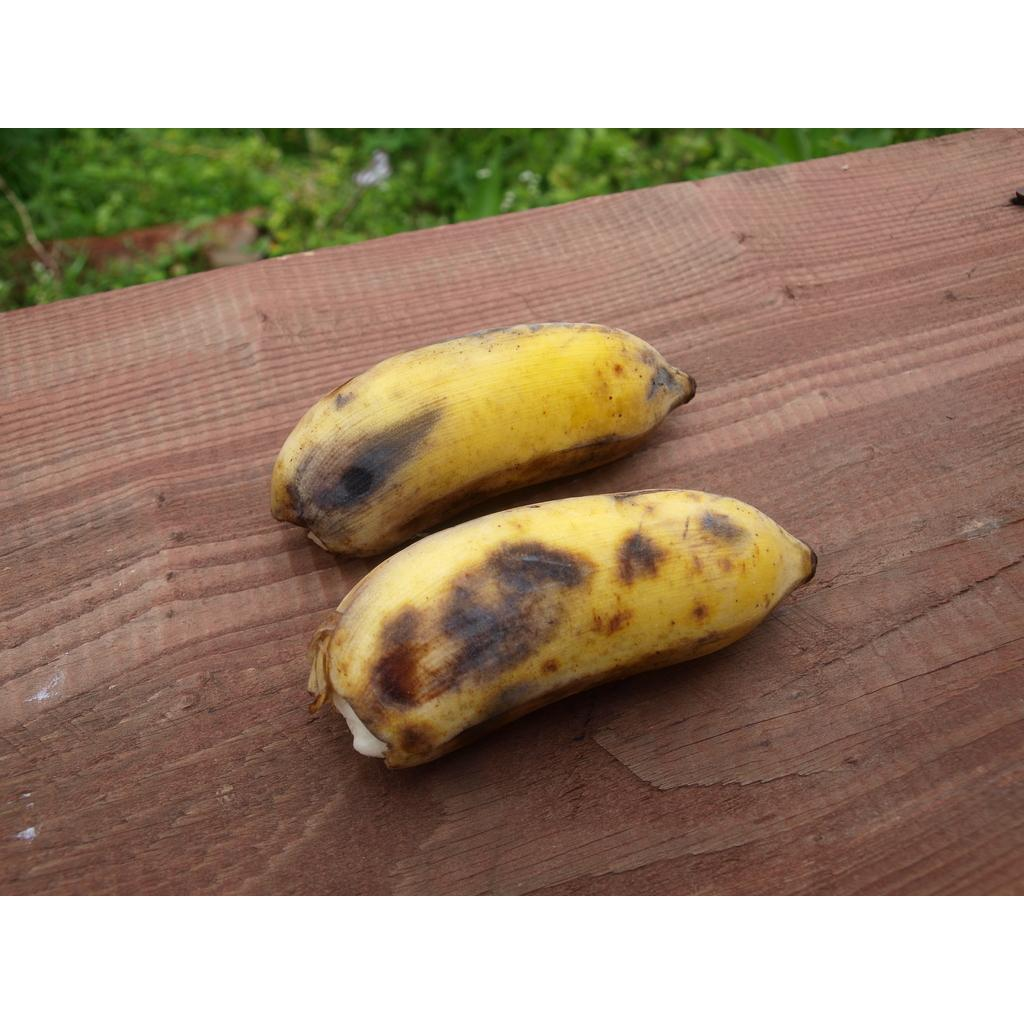banana: (307, 490, 817, 774), (265, 324, 699, 563)
